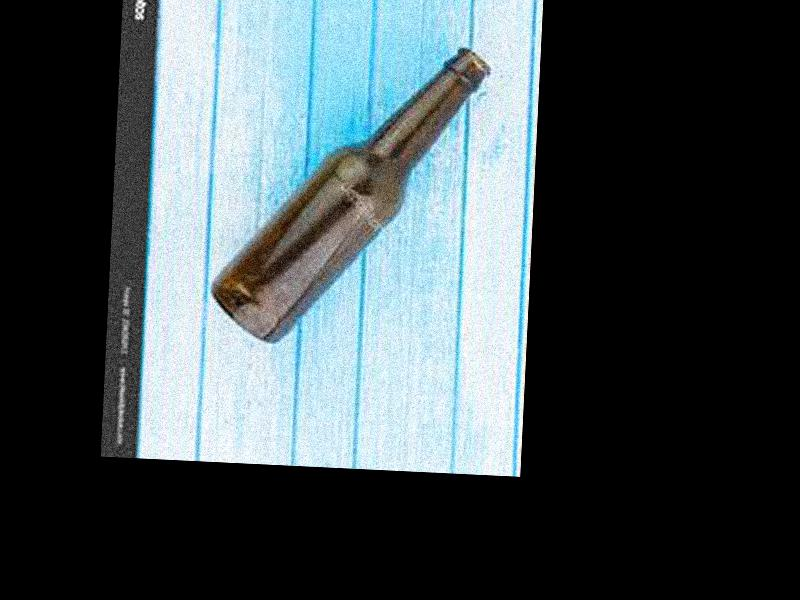Beer: (204, 38, 492, 353)
